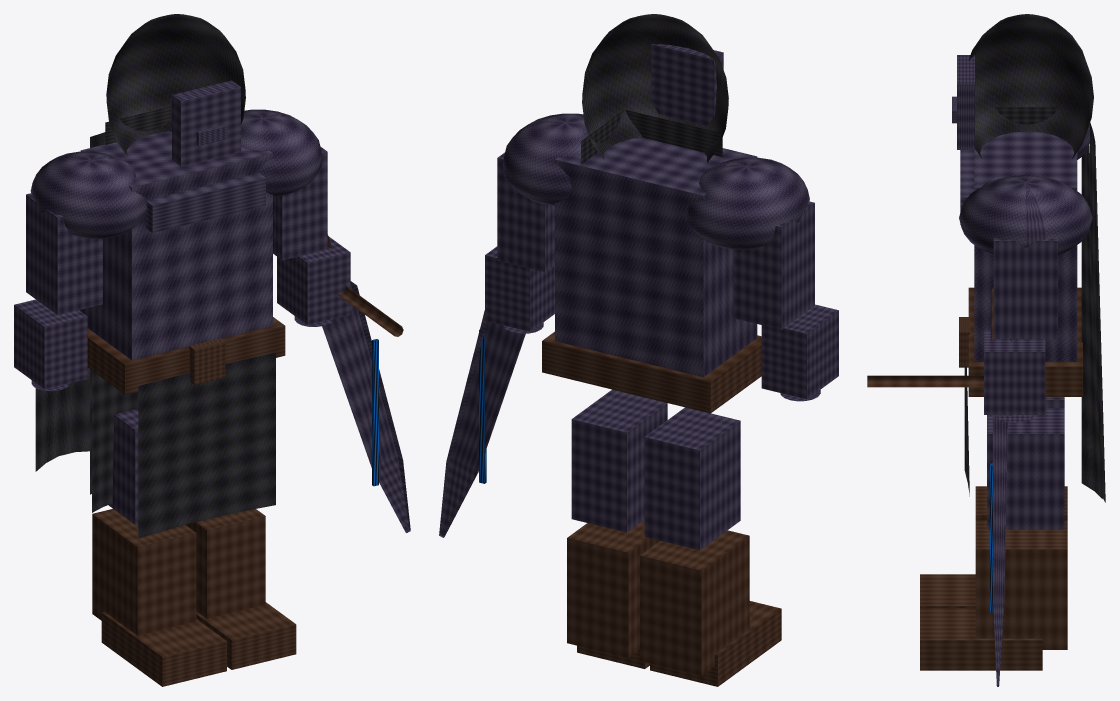
Rendered from eclipse_warden.obj.
3 views of the same model, side by side, from view 1: azimuth 30°, elevation 25°; view 2: azimuth 150°, elevation 25°; view 3: azimuth 270°, elevation 25° (orthographic). The views are drawn at different scales.
Parts seen in each view (by area): view 1: Torso_Armor, Cloth_Skirt_Front, Boot_L, Hood, Boot_R, Shoulder_L, Sword_Blade, Belt, UpperArm_Armor_L, Gauntlet_L, Face_Plate, Gauntlet_R (+7 smaller); view 2: Torso_Armor, Boot_L, Hood, Thigh_Armor_L, Thigh_Armor_R, Boot_R, Shoulder_L, Belt, UpperArm_Armor_L, Sword_Blade, Gauntlet_L, Shoulder_R (+4 smaller); view 3: Boot_R, Hood, Torso_Armor, Shoulder_R, Thigh_Armor_R, UpperArm_Armor_R, Gauntlet_R, Cape_R, Sword_Blade, Belt, Boot_L, Cape_Center (+5 smaller).
Part boxes in pixels (x1,y1,x2,y2): Torso_Armor: [80, 131, 272, 360]; Cloth_Skirt_Front: [138, 352, 275, 538]; Boot_L: [92, 509, 226, 686]; Hood: [105, 14, 245, 156]; Boot_R: [185, 509, 296, 669]; Shoulder_L: [30, 151, 146, 238]; Sword_Blade: [322, 281, 410, 532]; Belt: [87, 317, 285, 394]; UpperArm_Armor_L: [26, 193, 102, 315]; Gauntlet_L: [14, 299, 87, 391]; Face_Plate: [172, 80, 240, 166]; Gauntlet_R: [277, 236, 350, 326]; Torso_Armor: [555, 138, 757, 377]; Boot_L: [640, 530, 781, 686]; Hood: [581, 14, 728, 167]; Thigh_Armor_L: [644, 407, 740, 550]; Thigh_Armor_R: [571, 389, 667, 532]; Boot_R: [567, 520, 659, 668]; Shoulder_L: [687, 157, 809, 249]; Belt: [542, 331, 761, 413]; UpperArm_Armor_L: [733, 201, 814, 329]; Sword_Blade: [439, 310, 525, 537]; Gauntlet_L: [761, 304, 838, 401]; Shoulder_R: [502, 113, 588, 205]; Boot_R: [920, 520, 1067, 670]; Hood: [968, 14, 1093, 158]; Torso_Armor: [960, 131, 1077, 361]; Shoulder_R: [959, 175, 1092, 255]; Thigh_Armor_R: [987, 408, 1064, 529]; UpperArm_Armor_R: [993, 238, 1057, 339]; Gauntlet_R: [984, 330, 1045, 422]; Cape_R: [1081, 188, 1102, 498]; Sword_Blade: [993, 408, 1008, 686]; Belt: [959, 287, 1082, 396]; Boot_L: [920, 486, 1067, 608]; Cape_Center: [1090, 122, 1105, 502].
Bounding box in the file's own units: 3.12 × 4.9 × 1.71.
5 materials, 5 textured.
